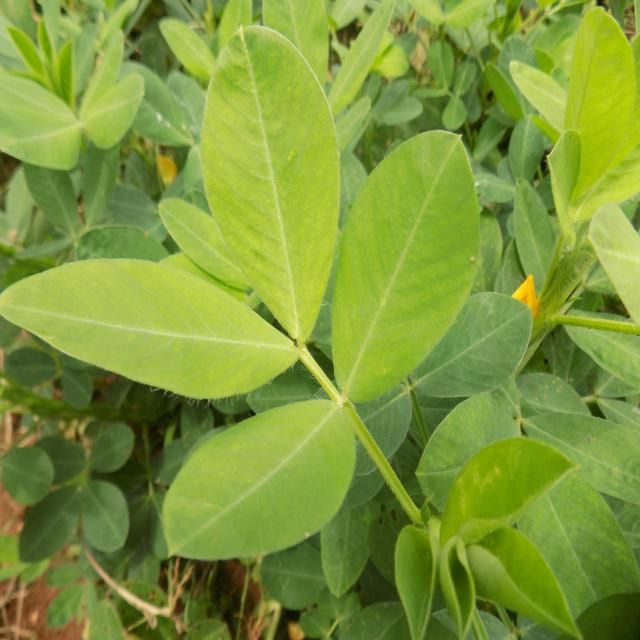Ground nut_healthy: (0, 254, 309, 398), (195, 30, 337, 339), (333, 120, 478, 408), (153, 403, 364, 553), (432, 441, 576, 541), (564, 4, 632, 214), (414, 290, 538, 402), (20, 156, 87, 245), (509, 174, 556, 278), (80, 477, 130, 556)
